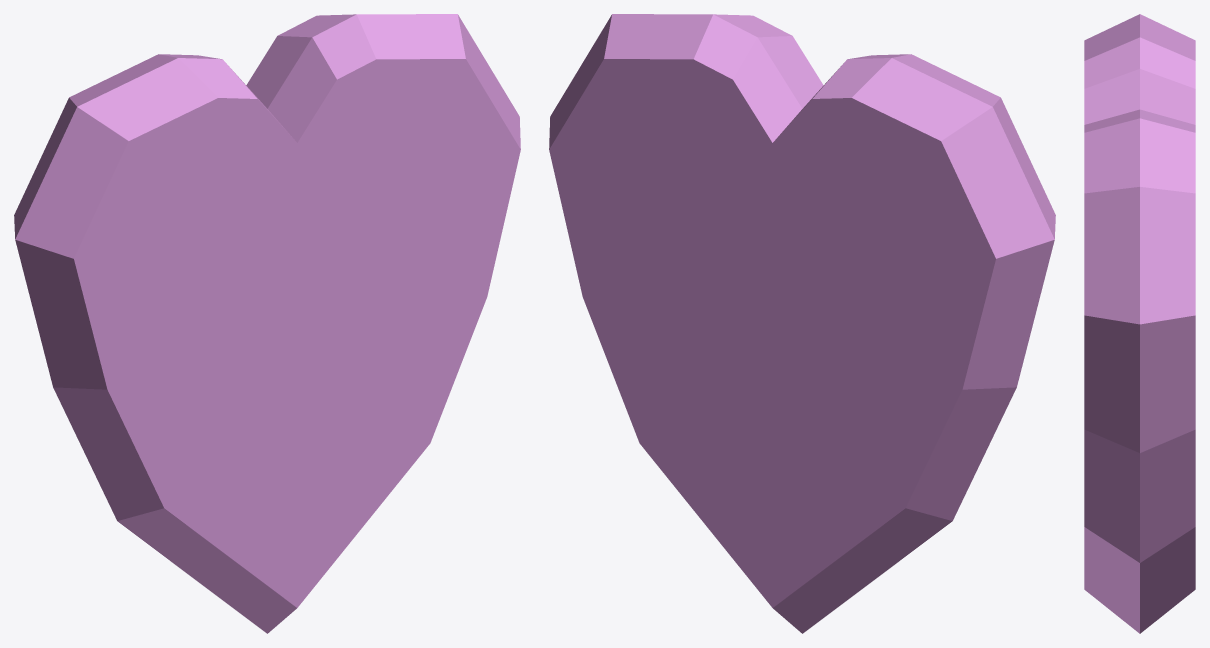
The model's file is heart.gltf.
3 views of the same model, side by side, from view 1: azimuth 30°, elevation 25°; view 2: azimuth 150°, elevation 25°; view 3: azimuth 270°, elevation 25° (orthographic). The views are drawn at different scales.
Parts seen in each view (by area): view 1: Cube; view 2: Cube; view 3: Cube.
Part boxes in pixels (box(x1,y1,x2,y2)): Cube: box(14, 14, 520, 633); Cube: box(549, 14, 1055, 633); Cube: box(1084, 14, 1195, 633).
Bounding box in the file's own units: 4.92 × 5.56 × 1.01.
